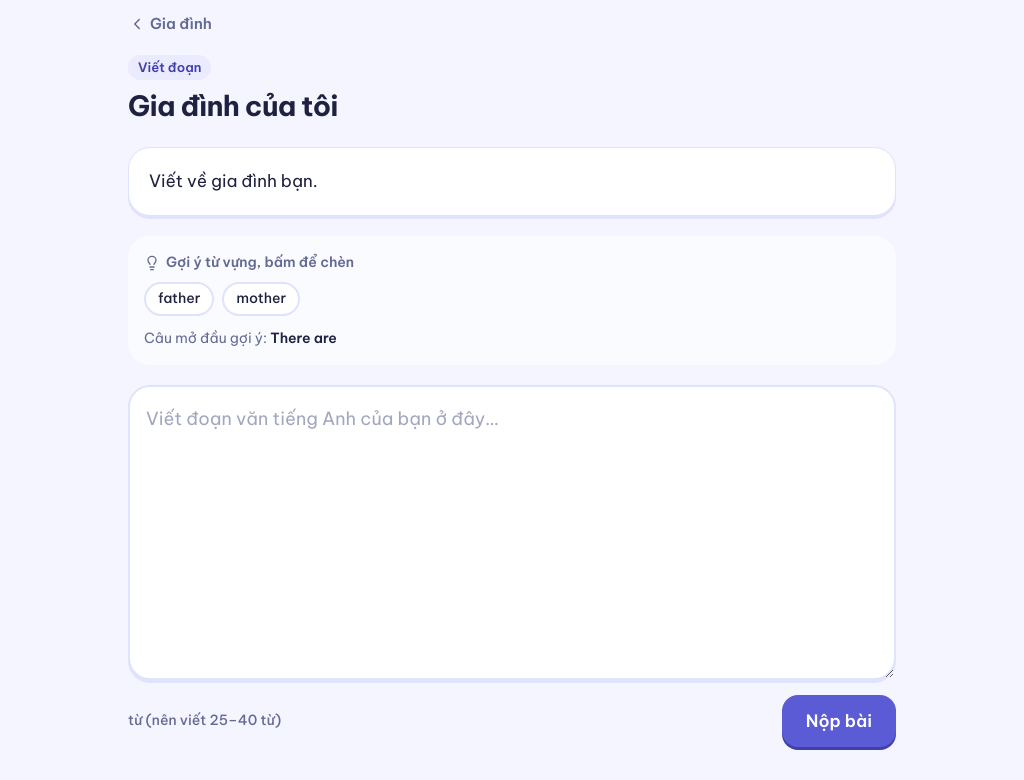
Scenario: hint chip inserts the word into the answer
The image size is (1024, 780).
Click the button with aria-label "Chèn từ father" at (179, 299), box [144,282,214,316]
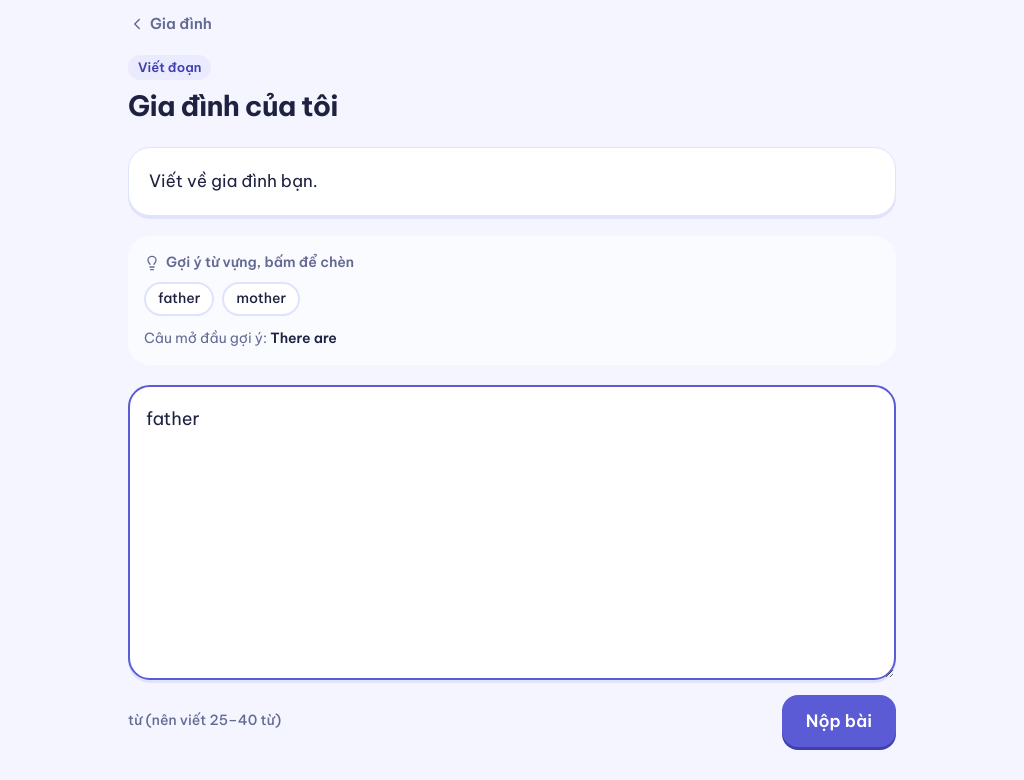
Expected: the text box named "Bài viết của bạn" holds "father ", [128,385,896,680]
